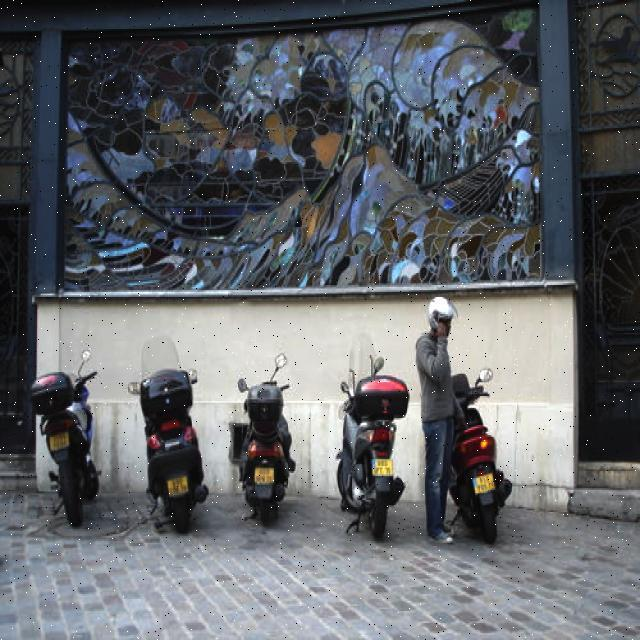motorcycle: (325, 337, 412, 541), (125, 340, 212, 542), (435, 354, 520, 545), (229, 346, 305, 527), (32, 386, 104, 526)
plate: (249, 462, 279, 494), (468, 469, 500, 497), (368, 454, 399, 482), (164, 474, 192, 498)
